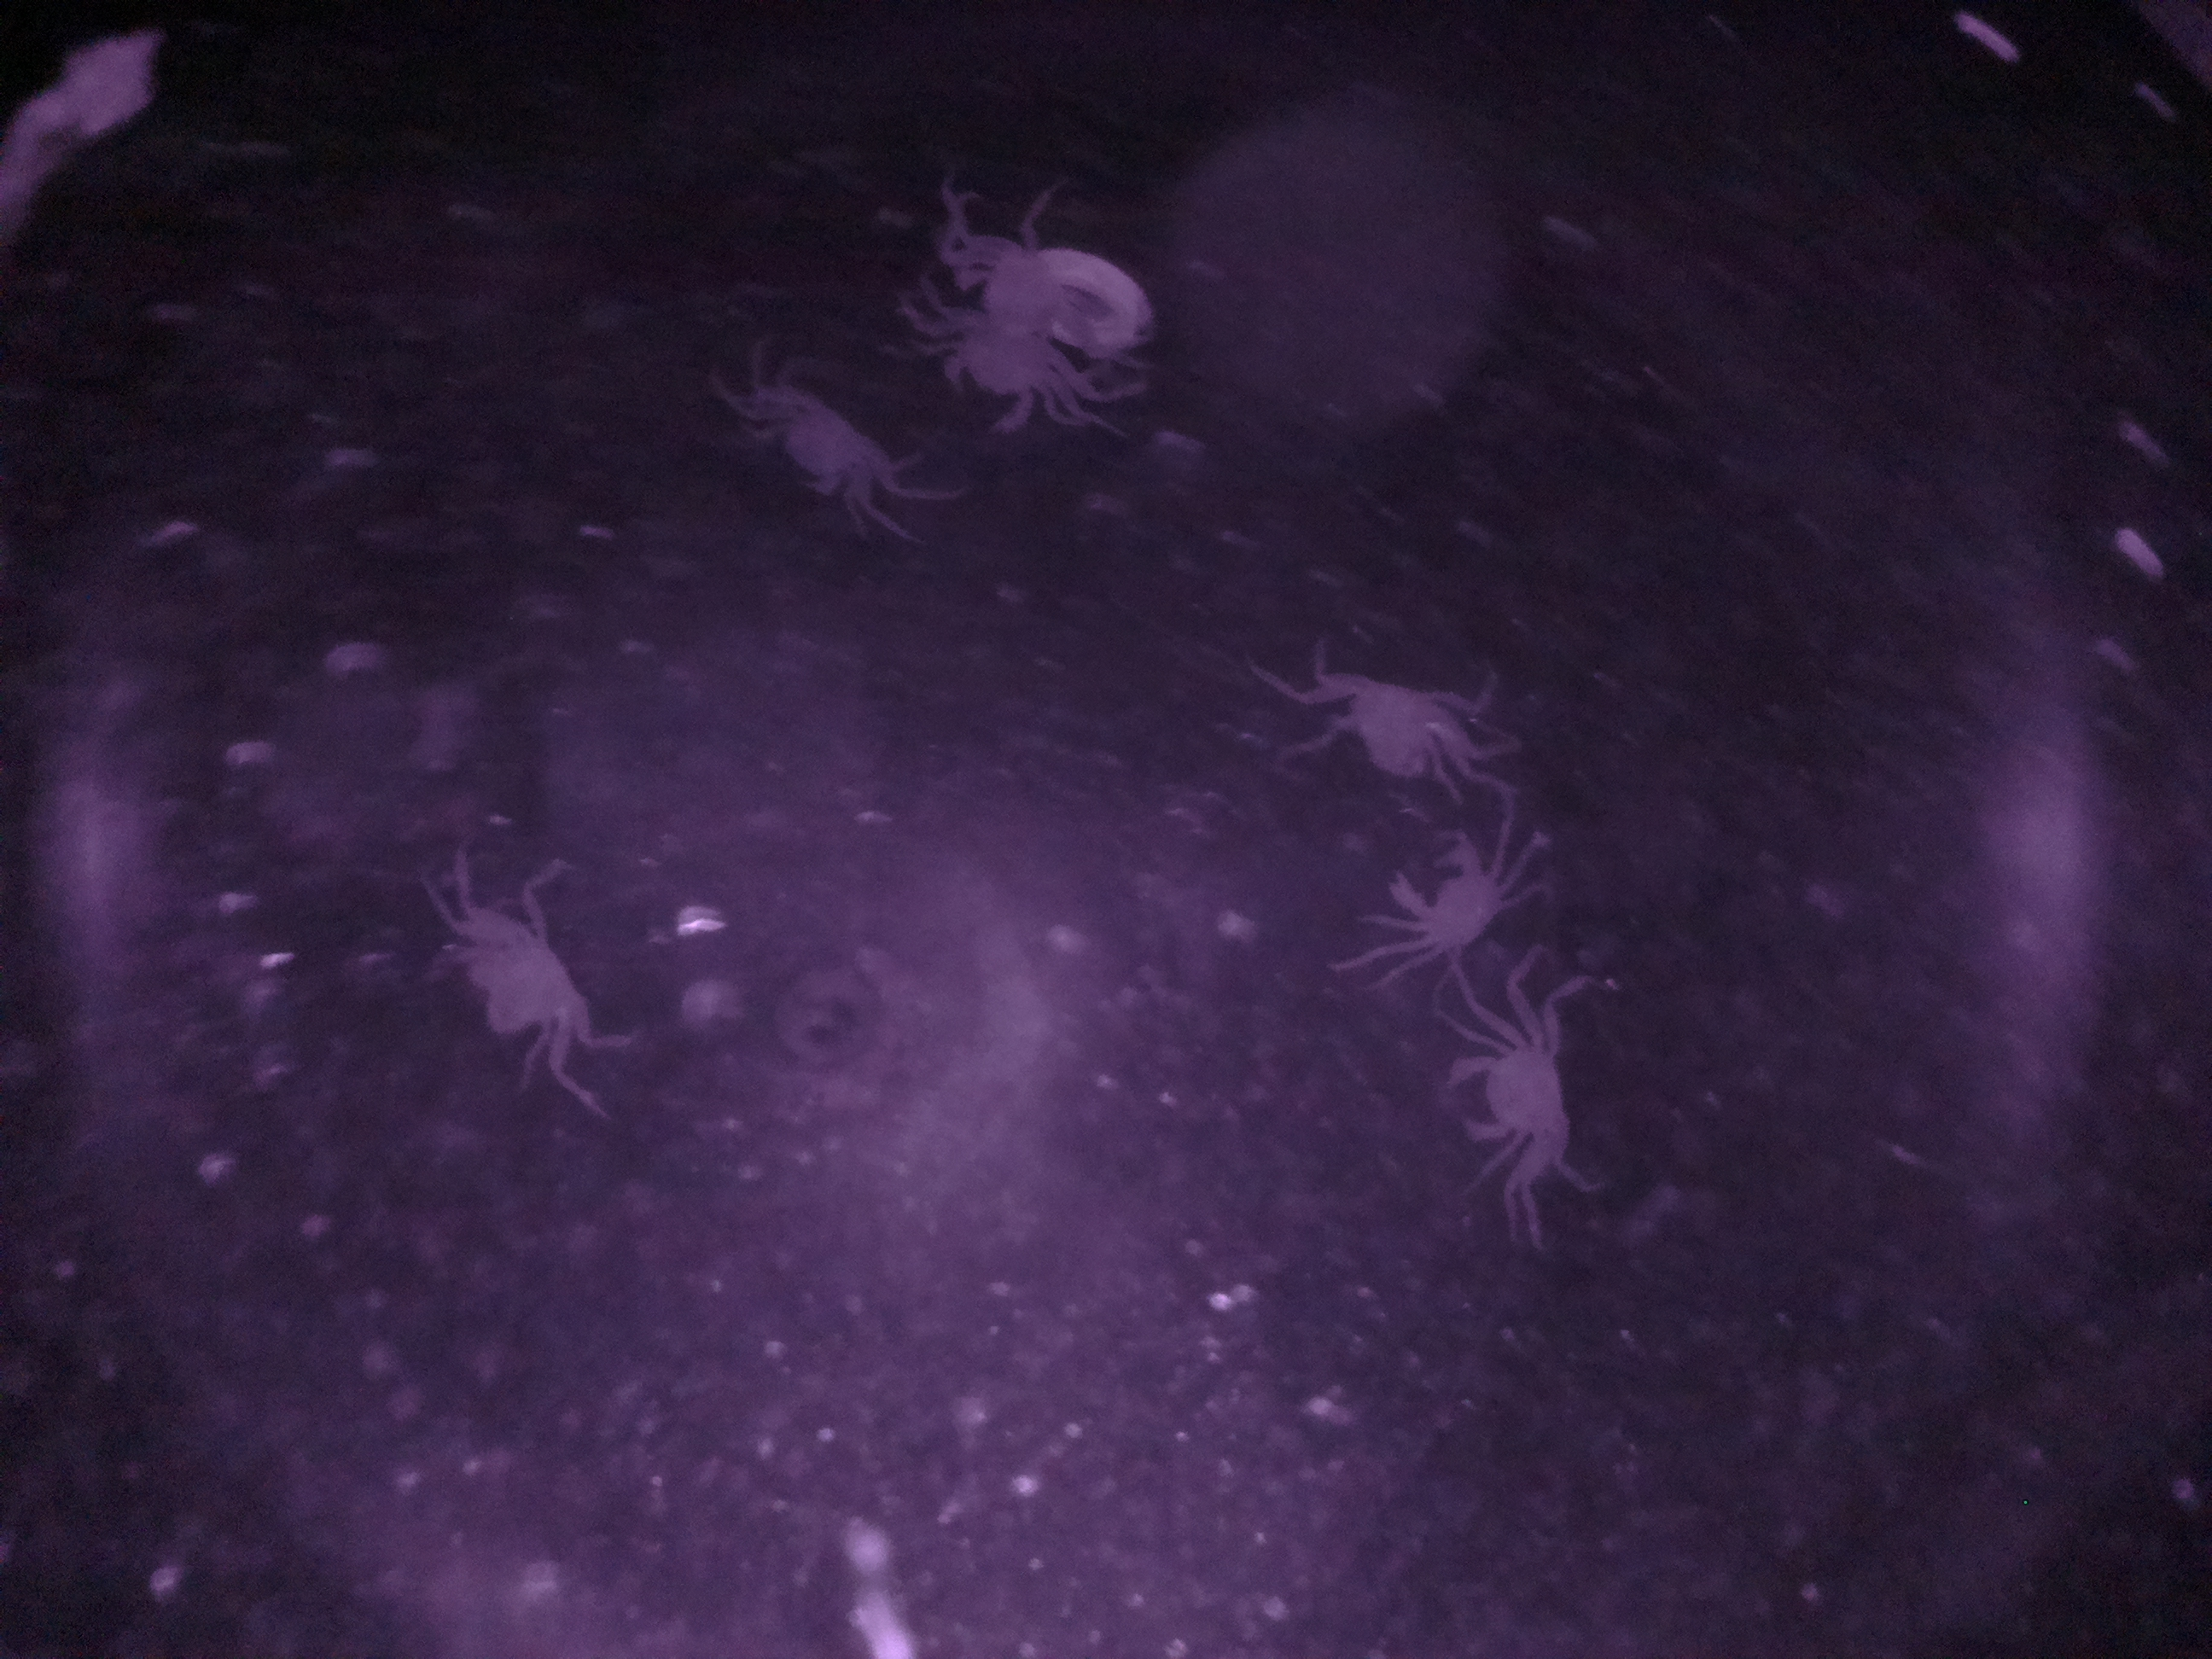Crab: (735, 362, 935, 530), (1414, 1019, 1594, 1175), (1362, 810, 1529, 974), (430, 896, 599, 1056)
